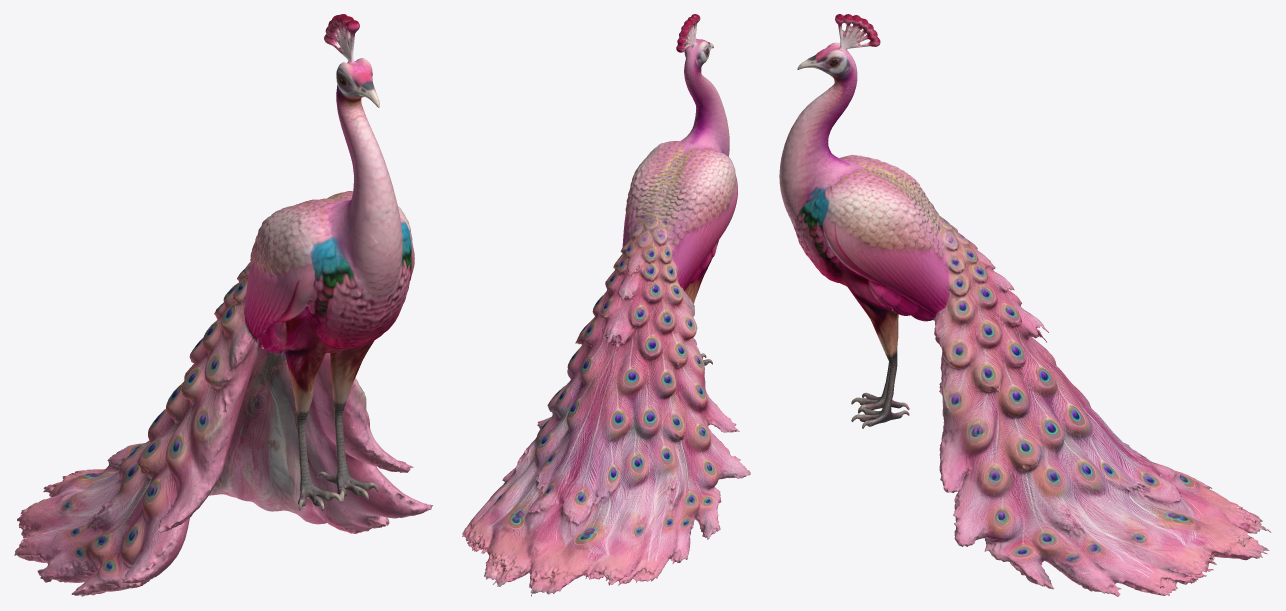
The model's file is peacock_pink.glb.
The picture shows the model from 3 angles, left to right: view 1: azimuth 30°, elevation 25°; view 2: azimuth 150°, elevation 25°; view 3: azimuth 270°, elevation 25°; orthographic projection. The views are drawn at different scales.
Visible parts, largest first — view 1: Mesh1.0; view 2: Mesh1.0; view 3: Mesh1.0.
Boxes of the visible parts, <box> form: Mesh1.0: <box>14,14,432,596</box>; Mesh1.0: <box>462,14,750,596</box>; Mesh1.0: <box>779,14,1271,596</box>.
Bounding box in the file's own units: 0.9628 × 1.9 × 1.6.
Materials: 1 (1 with a texture image).
